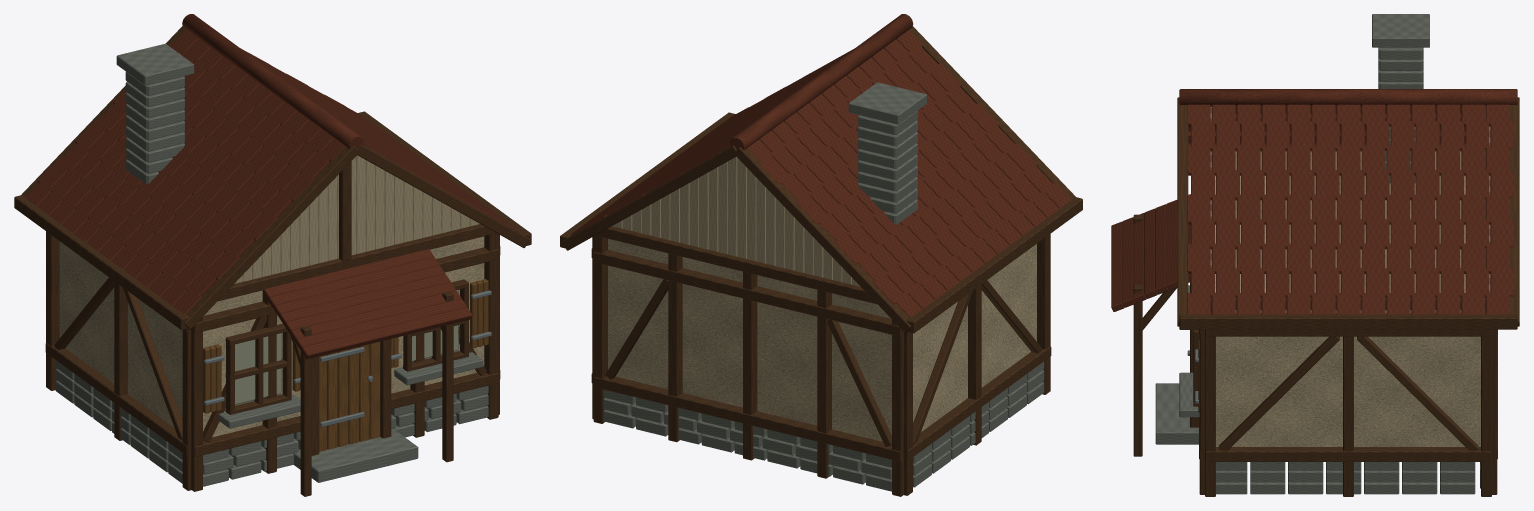
Rendered from cottage.glb.
3 views of the same model, side by side, from view 1: azimuth 30°, elevation 25°; view 2: azimuth 150°, elevation 25°; view 3: azimuth 270°, elevation 25° (orthographic).
Visible parts, largest first — view 1: cottage; view 2: cottage; view 3: cottage.
Boxes of the visible parts, x1,y1,x2,y2 form: cottage: [14, 14, 531, 496]; cottage: [560, 14, 1082, 496]; cottage: [1111, 14, 1519, 496].
Size of the model in its own units: 5.94 by 5.58 by 5.92.
Materials: 7 (5 with a texture image).
